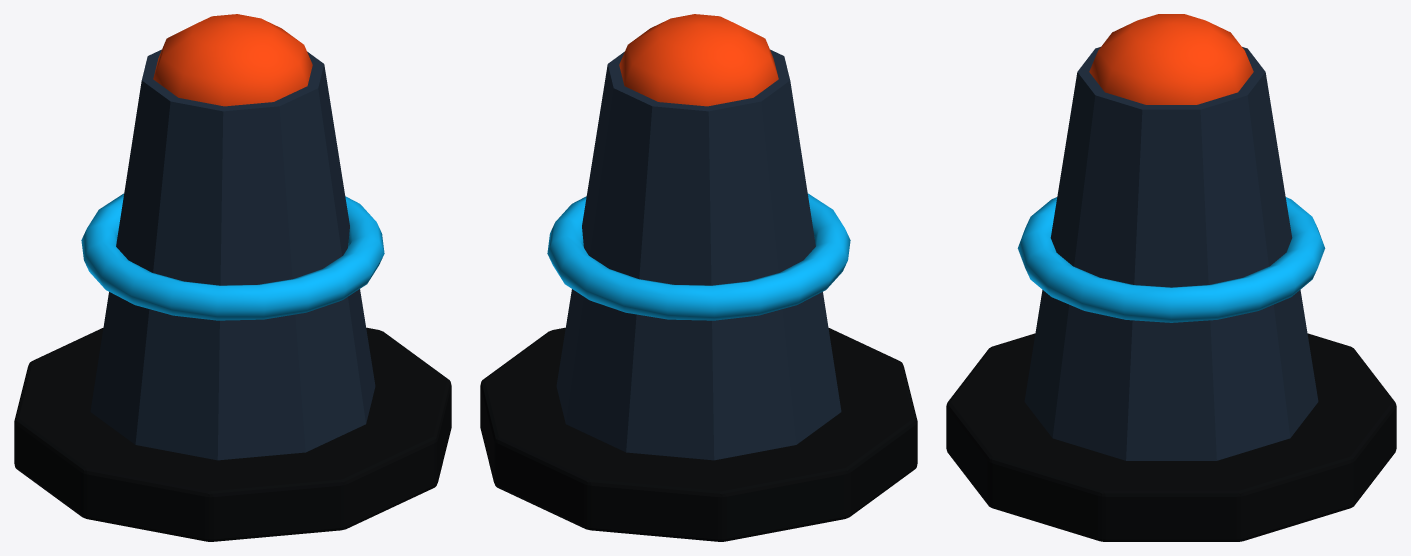
Rendered from power_generator_array_lod1.obj.
3 renders of one model, left to right at view 1: azimuth 30°, elevation 25°; view 2: azimuth 150°, elevation 25°; view 3: azimuth 270°, elevation 25°, orthographic.
Visible parts, largest first — view 1: rts_generator_lod1_core_M_gunmetal, rts_generator_lod1_base_M_black, rts_generator_lod1_coil_M_cyan, rts_generator_lod1_cap_M_orange; view 2: rts_generator_lod1_core_M_gunmetal, rts_generator_lod1_base_M_black, rts_generator_lod1_coil_M_cyan, rts_generator_lod1_cap_M_orange; view 3: rts_generator_lod1_core_M_gunmetal, rts_generator_lod1_base_M_black, rts_generator_lod1_coil_M_cyan, rts_generator_lod1_cap_M_orange.
Boxes of the visible parts, left/top/right/bottom form: rts_generator_lod1_core_M_gunmetal: left=90, top=49, right=375, bottom=460; rts_generator_lod1_base_M_black: left=14, top=327, right=451, bottom=541; rts_generator_lod1_coil_M_cyan: left=81, top=193, right=384, bottom=320; rts_generator_lod1_cap_M_orange: left=153, top=14, right=312, bottom=106; rts_generator_lod1_core_M_gunmetal: left=556, top=49, right=841, bottom=460; rts_generator_lod1_base_M_black: left=480, top=327, right=917, bottom=541; rts_generator_lod1_coil_M_cyan: left=547, top=193, right=850, bottom=320; rts_generator_lod1_cap_M_orange: left=619, top=14, right=778, bottom=106; rts_generator_lod1_core_M_gunmetal: left=1024, top=47, right=1318, bottom=460; rts_generator_lod1_base_M_black: left=946, top=333, right=1396, bottom=541; rts_generator_lod1_coil_M_cyan: left=1017, top=197, right=1325, bottom=322; rts_generator_lod1_cap_M_orange: left=1089, top=14, right=1253, bottom=104.
Bounding box in the file's own units: 1.37 × 1.51 × 1.43.
